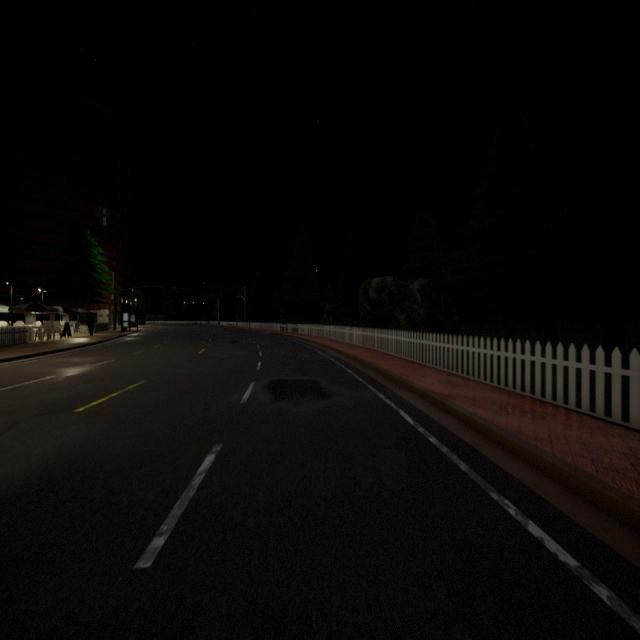traffic_light: (218, 312, 219, 317), (183, 302, 185, 304), (192, 302, 194, 304), (203, 302, 204, 304)
